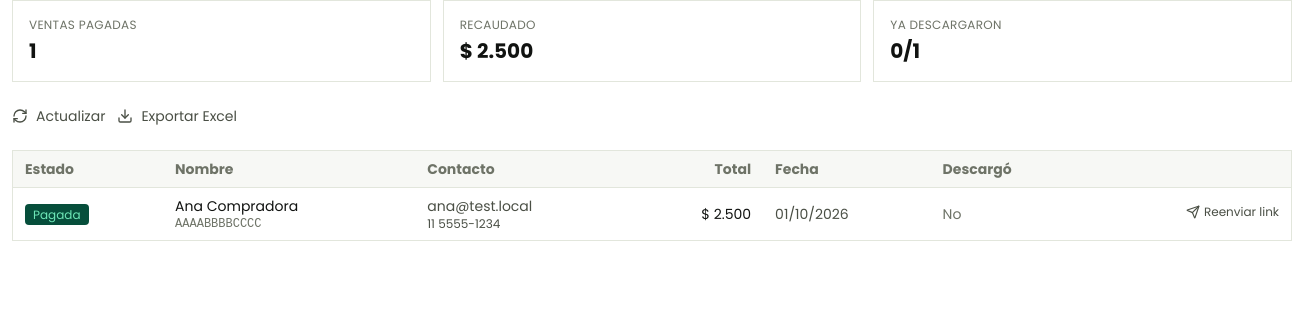
PanelVentasProductos › exportar › sin conexión lo avisa
This screenshot has width=1292, height=328.
Expected: the text "Ana Compradora" is shown, [175,196,298,216]
Click the button "Exportar Excel" at (177,116), box [117,106,237,126]
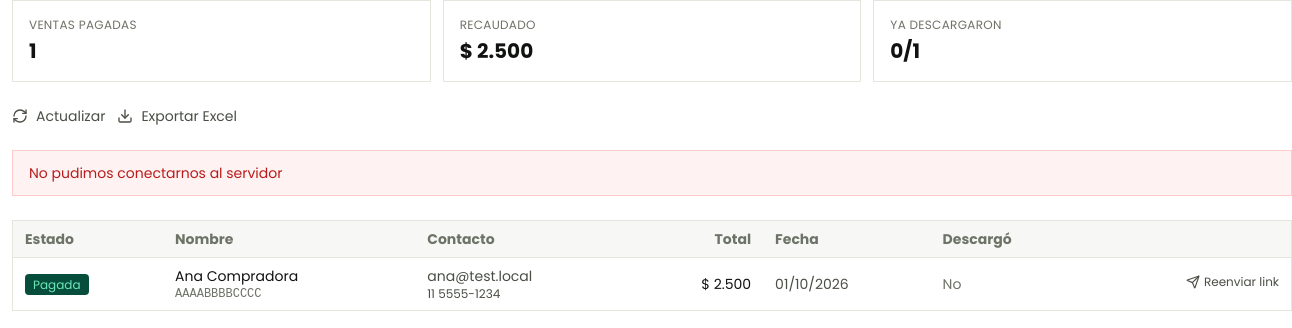
Result: the message reads "No pudimos conectarnos al servidor" at [29,163,282,183]
